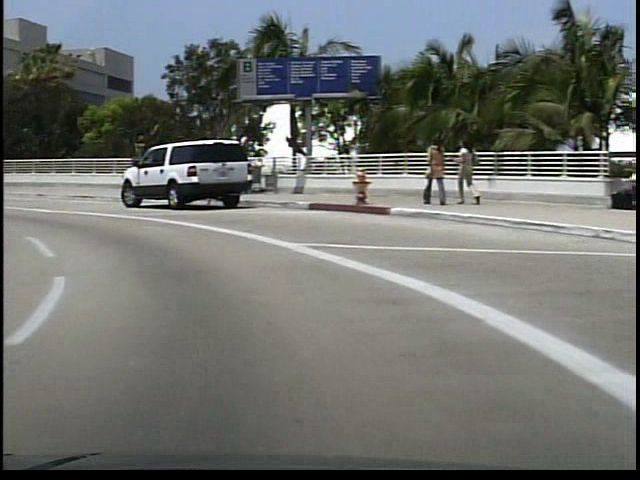person: (446, 136, 473, 209), (419, 133, 443, 214)
